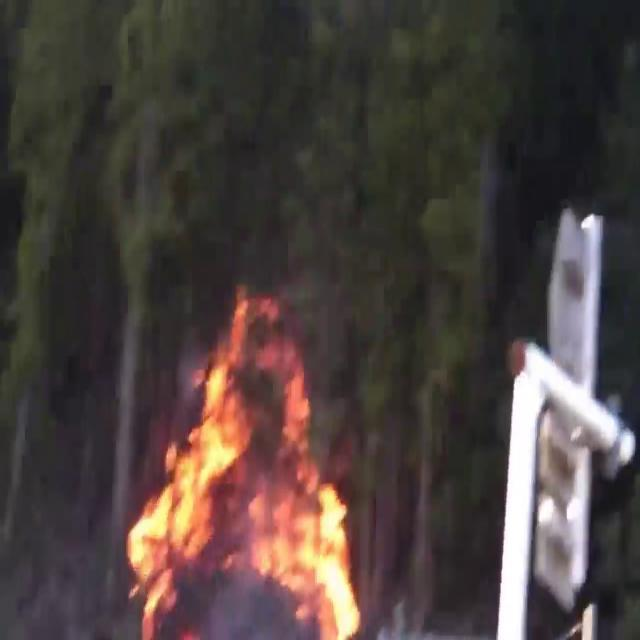Fire: (120, 296, 369, 636)
